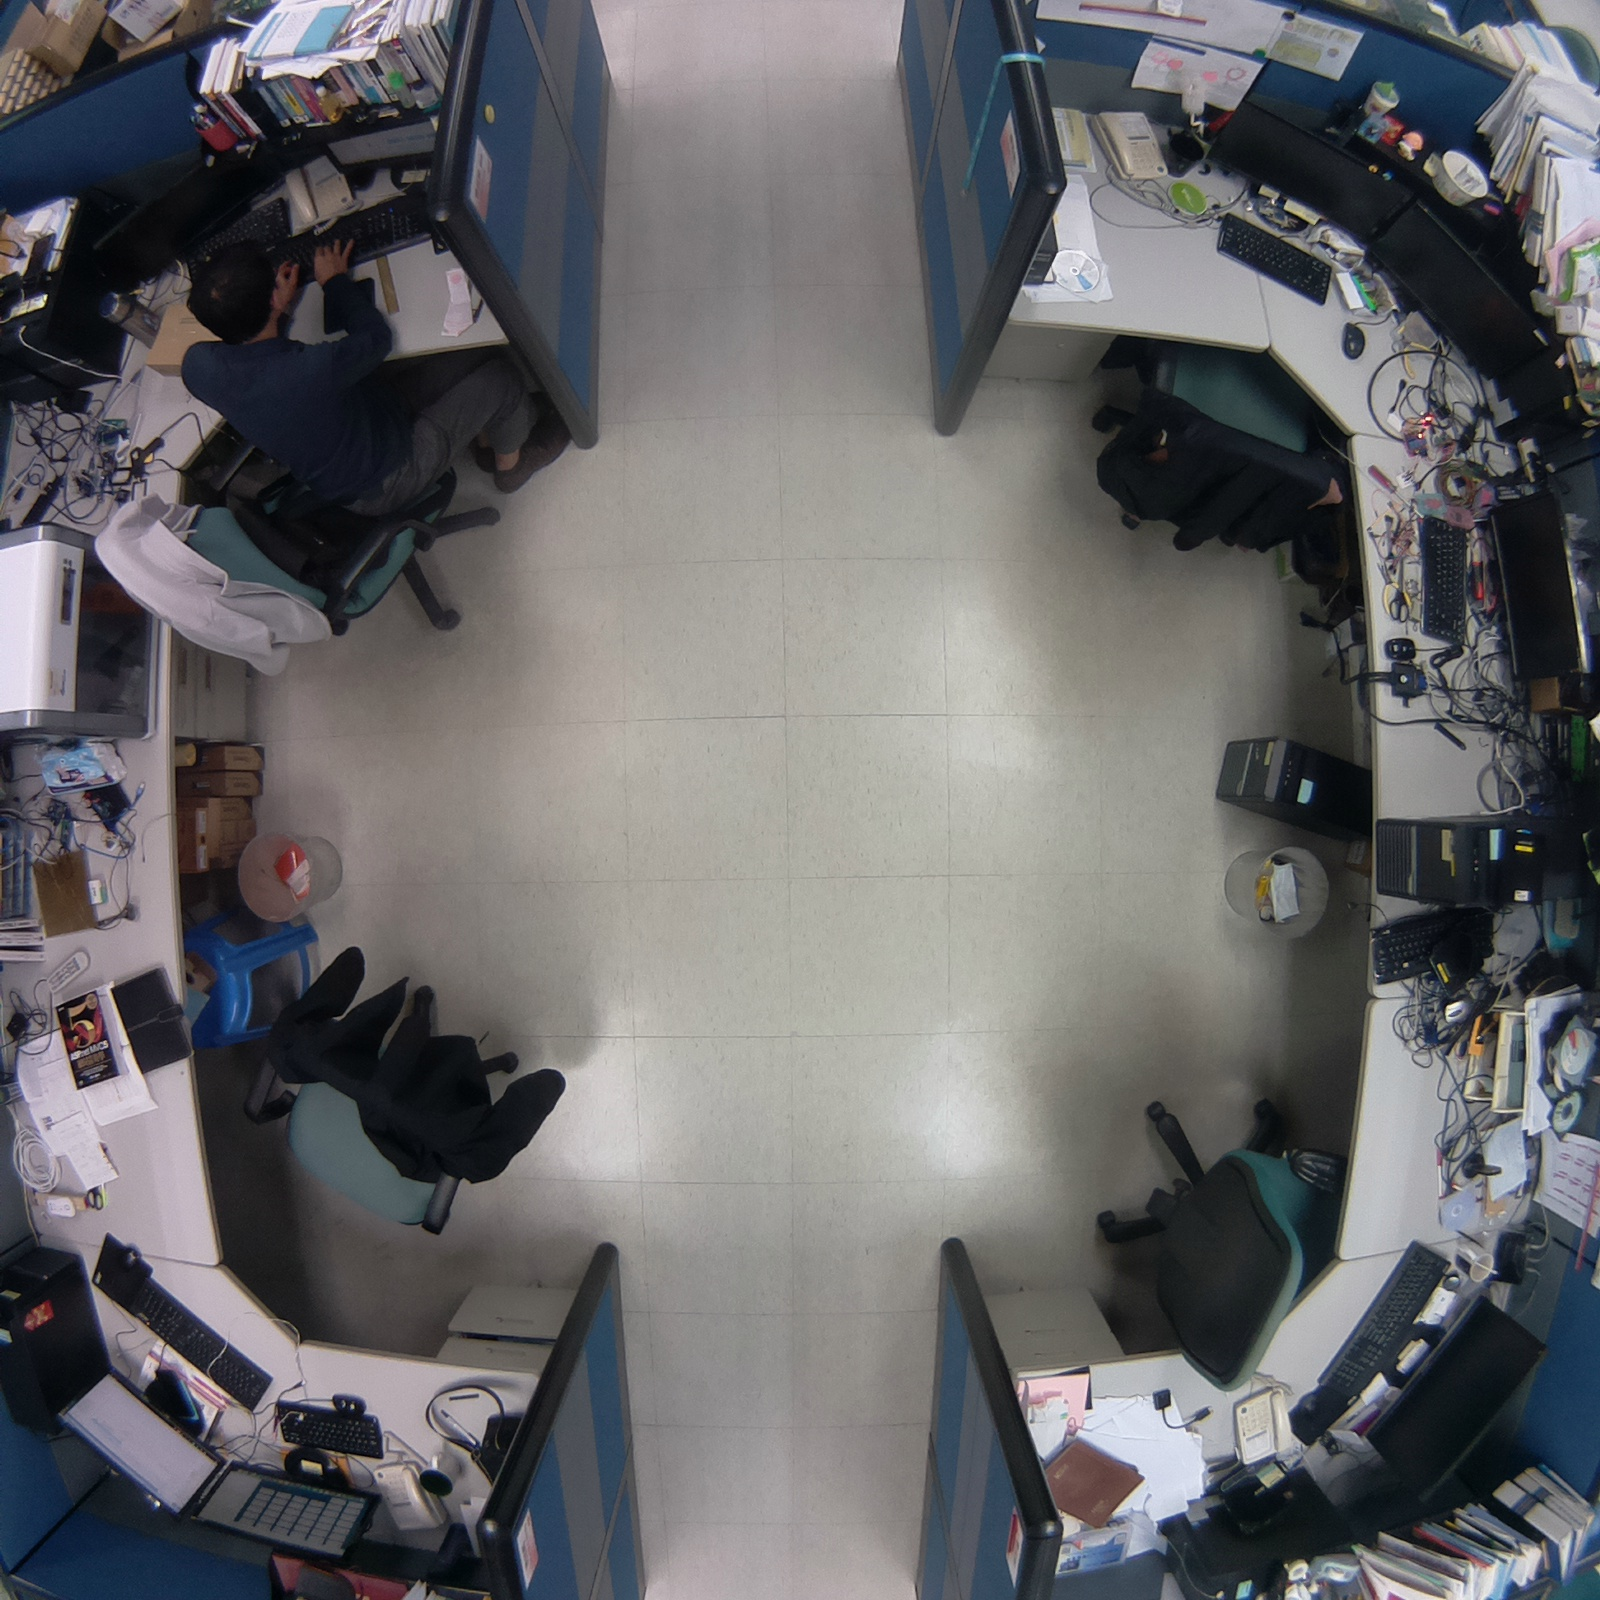chair: (240, 922, 583, 1258), (1047, 1083, 1358, 1401), (1068, 319, 1368, 583)
head: (185, 236, 295, 344)
sitting: (78, 235, 581, 681)
